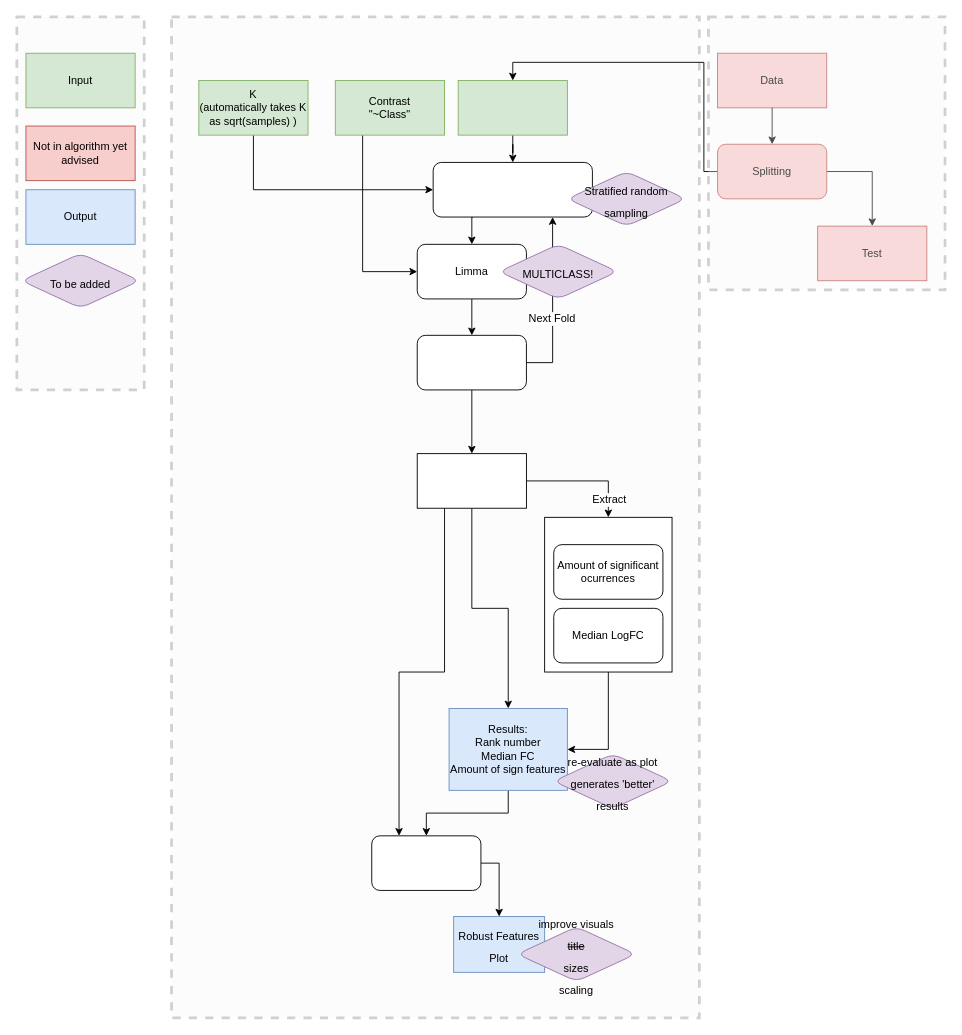
This 962x1035 diagram has some shape labels left out. The shapes that lost their labels are listed below. From the top down, each one's box as (x1, y1, x2, y2) in pixels, then its label:
(457, 80, 567, 135): Training set
(707, 15, 946, 291): Advised data splitting
(15, 15, 145, 391): Legend
(432, 162, 592, 217): Split in folds (k?) Random
(416, 334, 526, 390): Store in DF Pvalue and LogFC
(416, 453, 526, 508): dataframe
(170, 15, 700, 1019): KDEA
(544, 516, 672, 672): Rank
(371, 835, 481, 890): Create "Robust features" image
